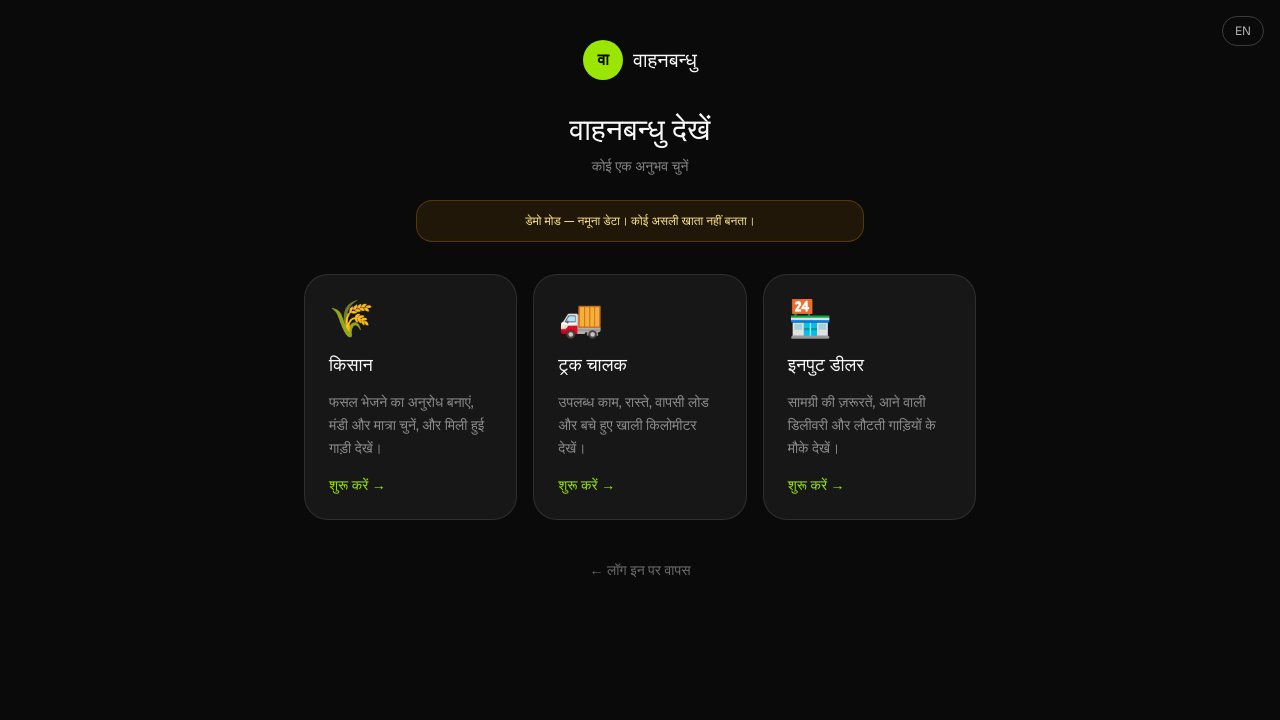
Test: demo role selector › reports a backend refusal honestly rather than pretending to sign in
Step 1. Click the text "किसान" → (351, 365), box [329, 351, 373, 379]
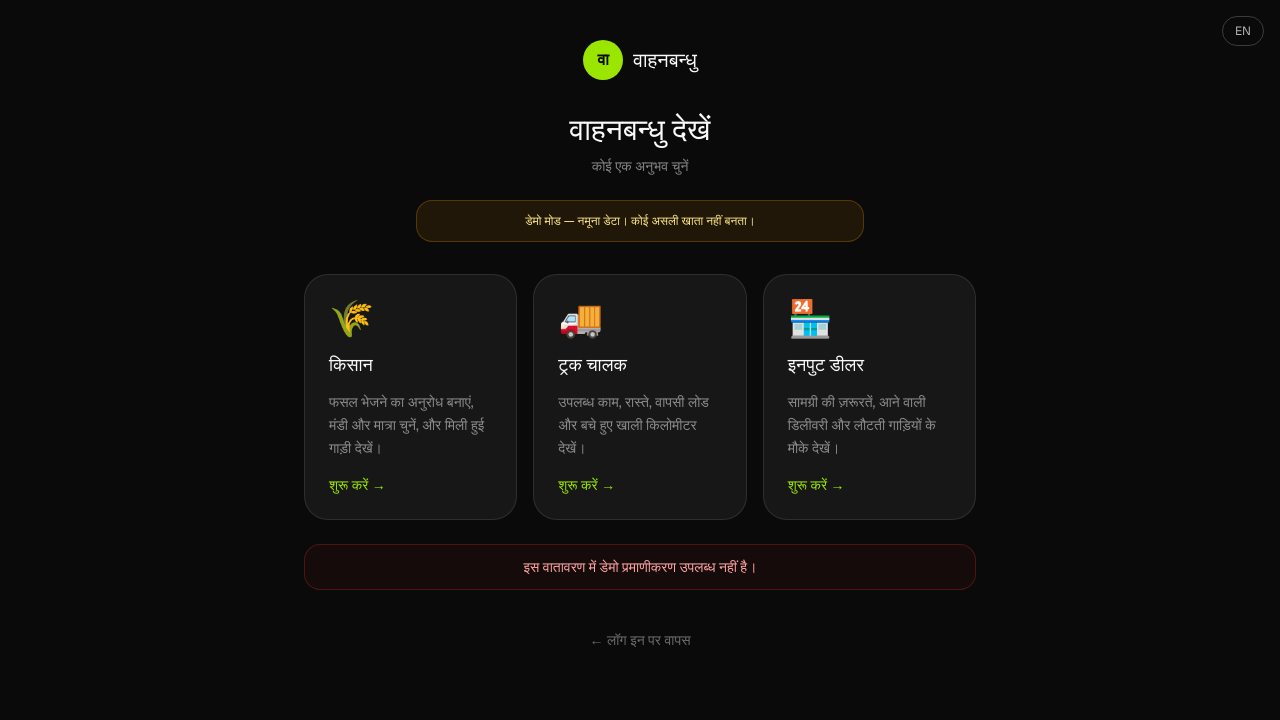
Now the text "इस वातावरण में डेमो प्रमाणीकरण उपलब्ध नहीं है।" is shown, box [304, 544, 976, 590]
